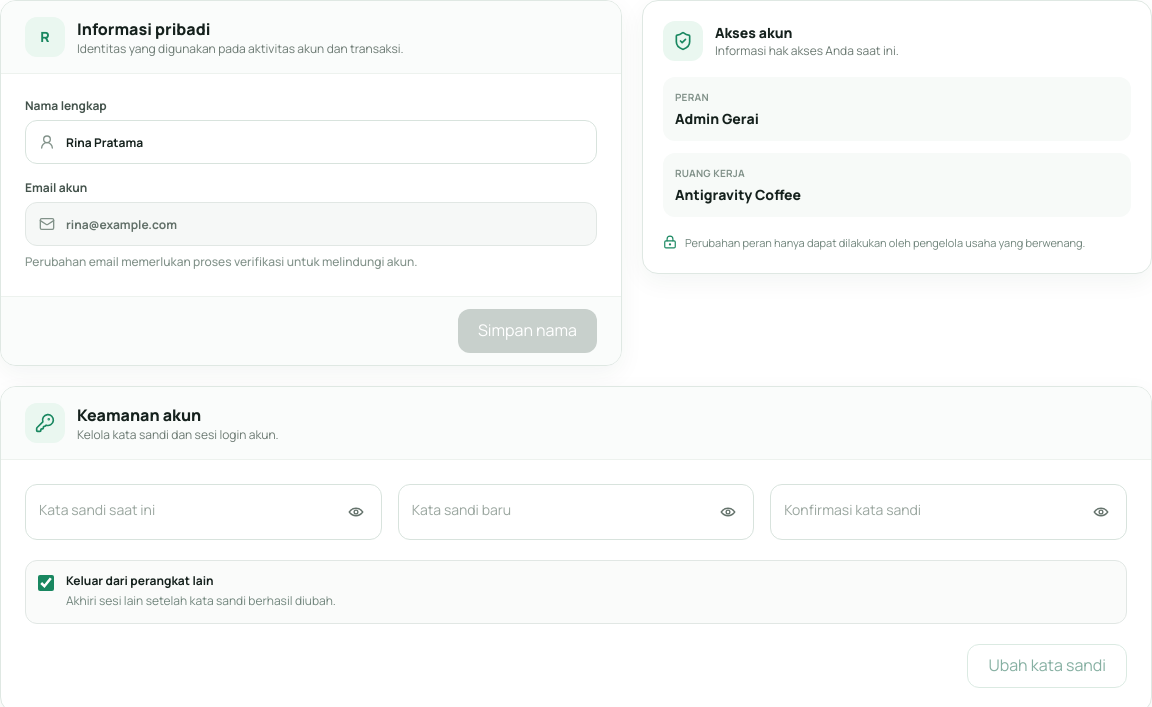
ProfileManager › changes a credential password and revokes other sessions by default
The image size is (1152, 707).
In the password field labelled "Kata sandi saat ini": (203, 512) [25,484,382,540], type "rahasia-lama"
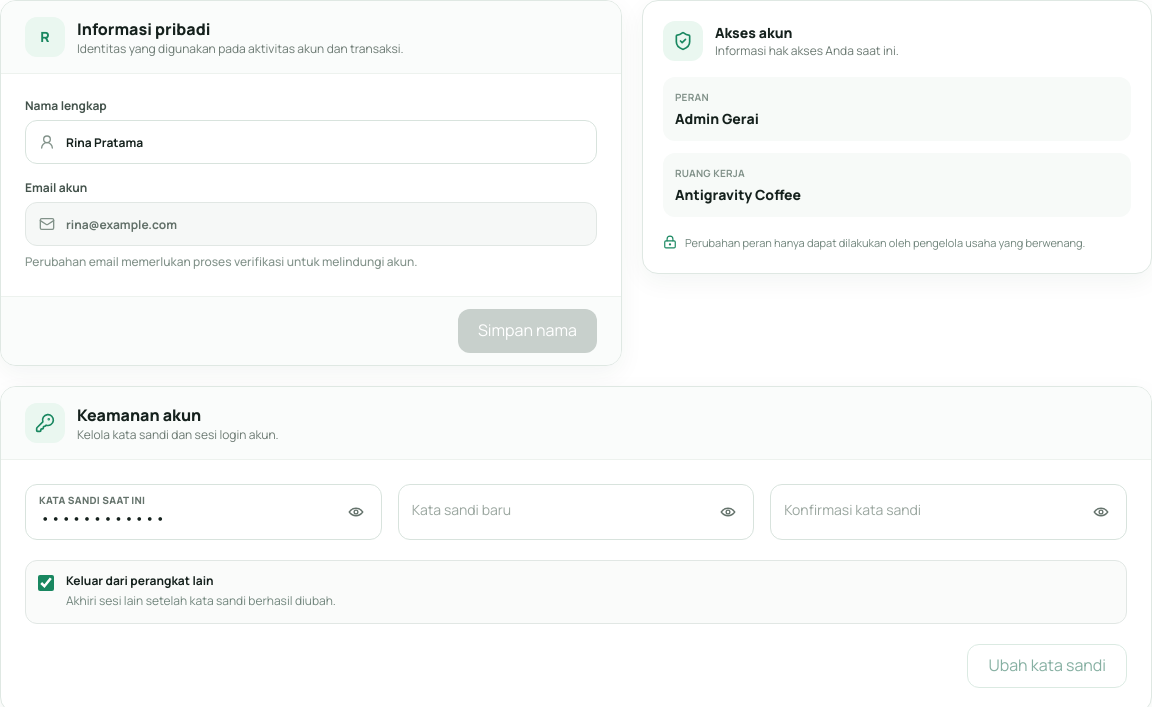
In the password field labelled "Kata sandi baru": (576, 512) [398,484,754,540], type "rahasia-baru"
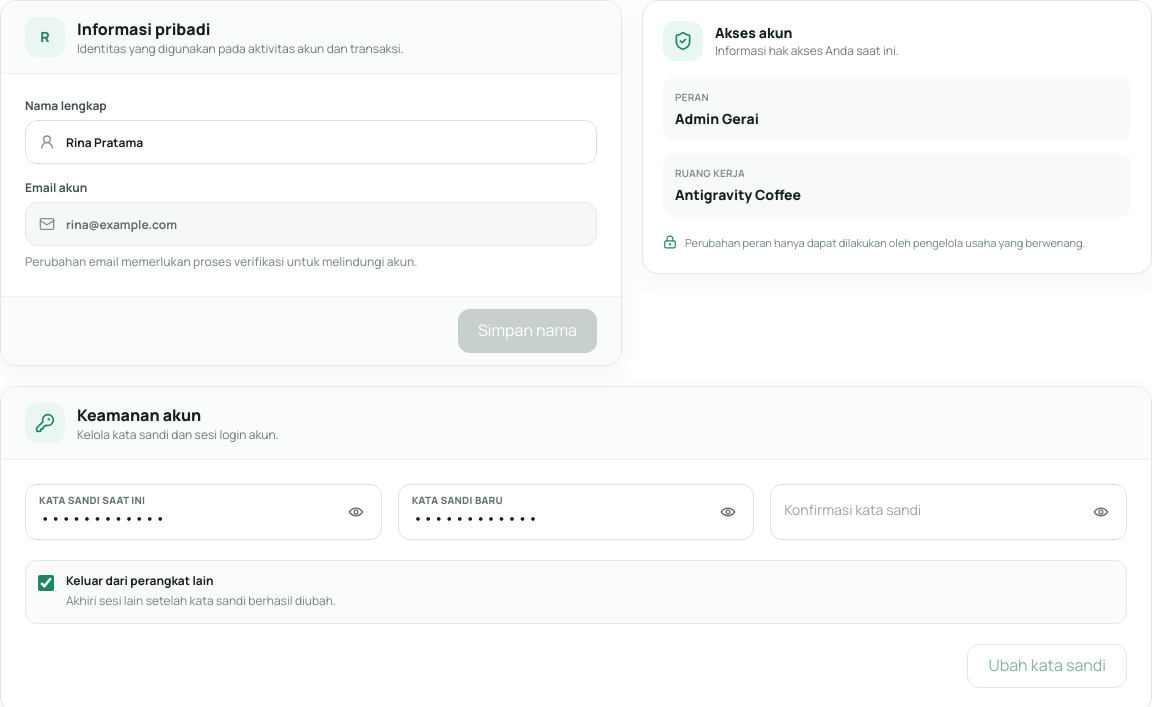
In the password field labelled "Konfirmasi kata sandi": (949, 512) [770,484,1127,540], type "rahasia-baru"
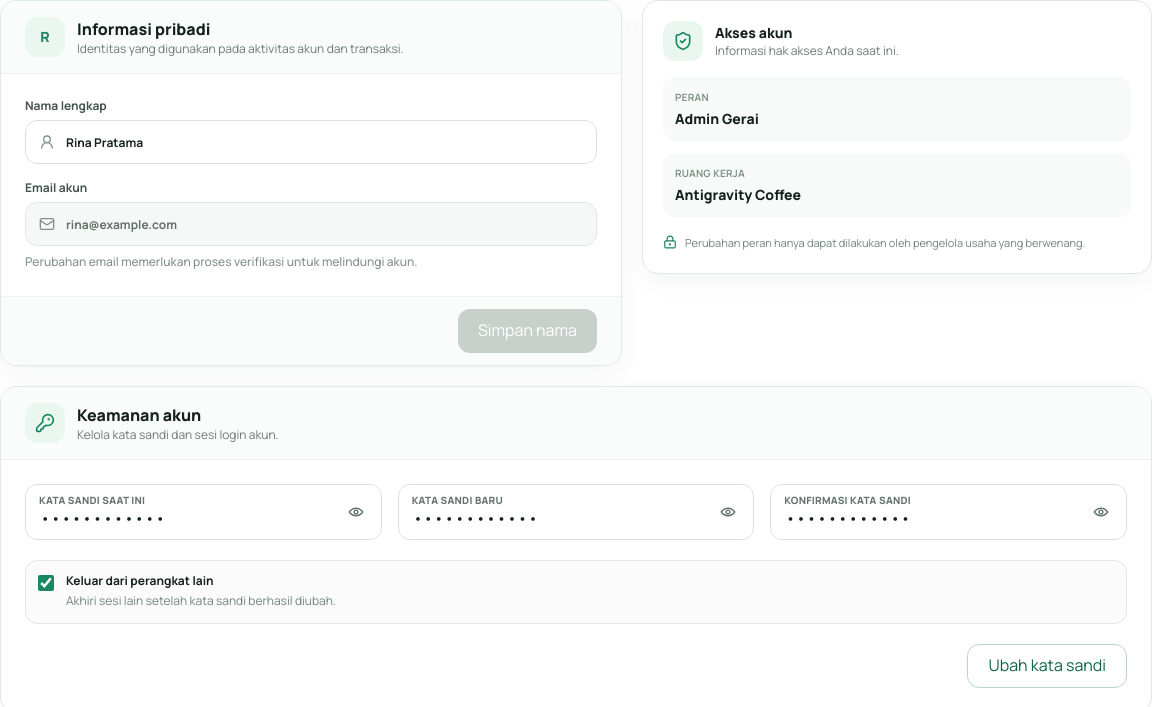
Click the button "Ubah kata sandi": (1047, 666) [967,644,1127,688]
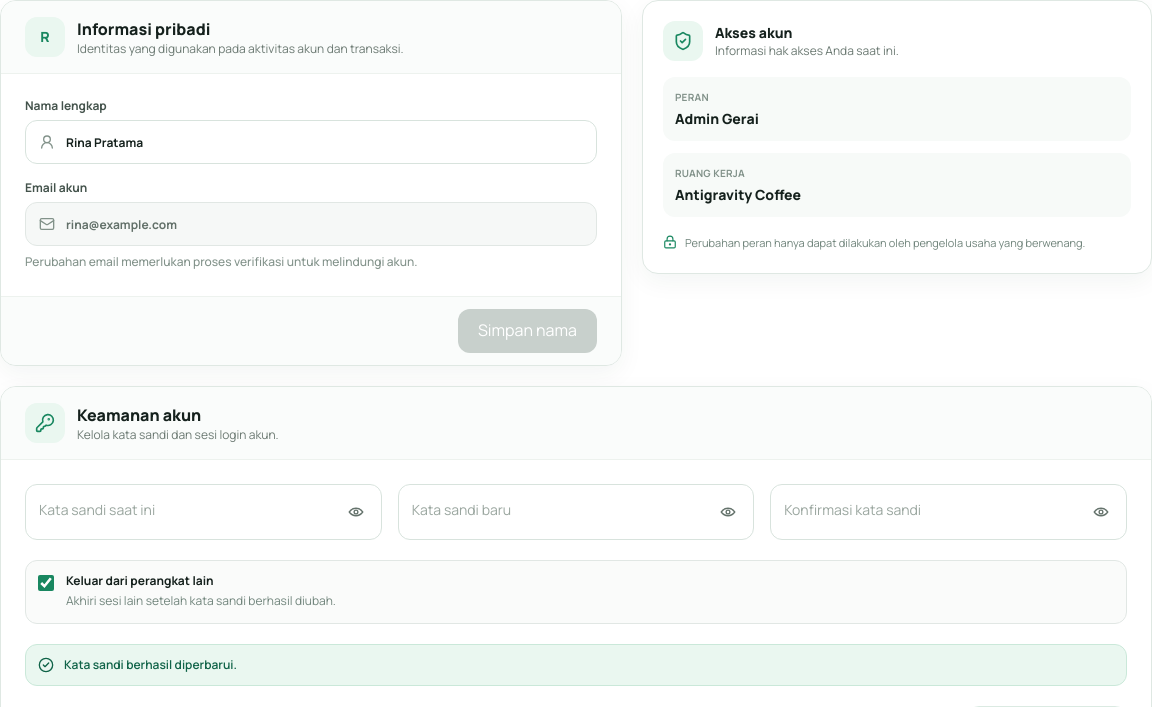
Expected: the text "Kata sandi berhasil diperbarui." is shown, [64,657,237,673]
